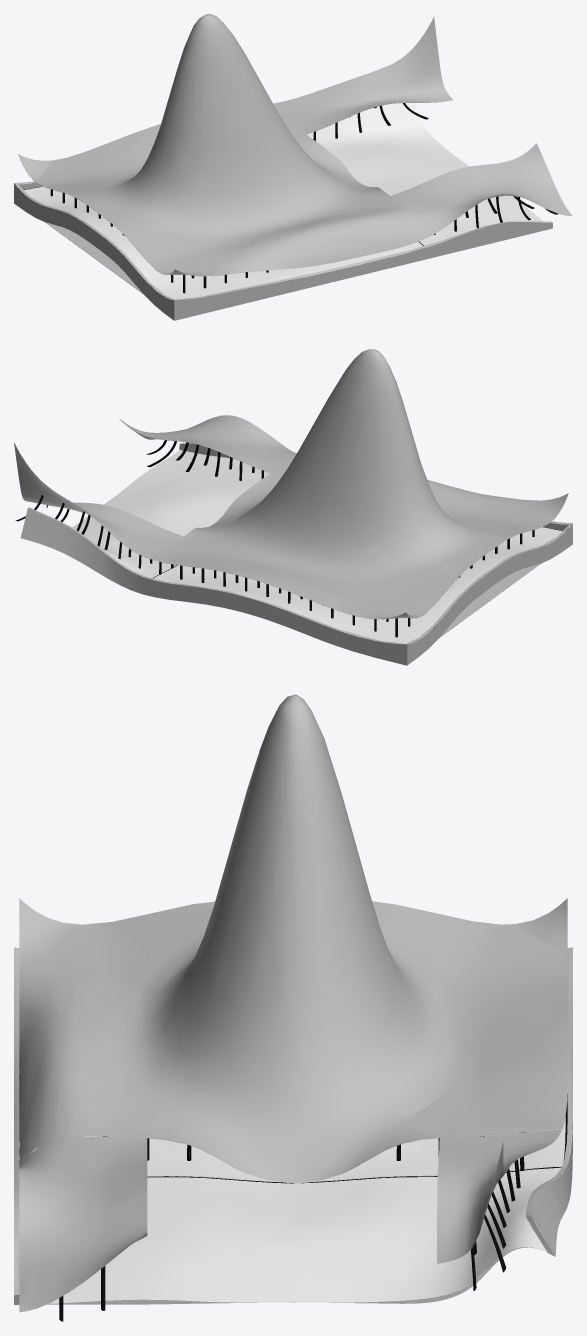
The picture shows the model from 3 angles, top to bottom: view 1: azimuth 30°, elevation 25°; view 2: azimuth 150°, elevation 25°; view 3: azimuth 270°, elevation 25°; orthographic projection. The views are drawn at different scales.
Visible parts, largest first — view 1: Merged Objects 2, Merged Objects 1, Merged Objects 4; view 2: Merged Objects 2, Merged Objects 1, Merged Objects 4; view 3: Merged Objects 2, Merged Objects 1, Merged Objects 4.
Boxes of the visible parts, left/top/right/bottom form: Merged Objects 2: left=14, top=14, right=572, bottom=320; Merged Objects 1: left=24, top=103, right=544, bottom=299; Merged Objects 4: left=24, top=103, right=557, bottom=293; Merged Objects 2: left=14, top=349, right=572, bottom=665; Merged Objects 1: left=71, top=450, right=564, bottom=643; Merged Objects 4: left=15, top=440, right=565, bottom=637; Merged Objects 2: left=14, top=694, right=572, bottom=1312; Merged Objects 1: left=30, top=1116, right=565, bottom=1304; Merged Objects 4: left=59, top=1094, right=567, bottom=1321.
Bounding box in the file's own units: 154 × 80.92 × 107.
Materials: 7 (3 with a texture image).
